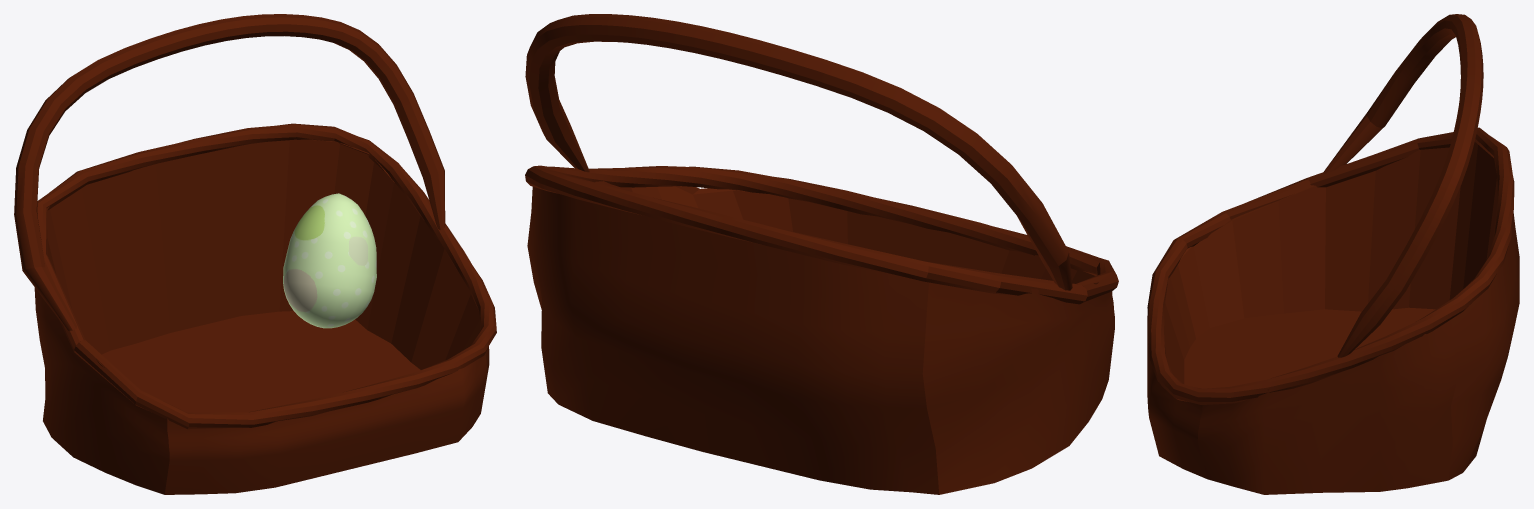
Rendered from Basket_textured.fbx.
3 views of the same model, side by side, from view 1: azimuth 30°, elevation 25°; view 2: azimuth 150°, elevation 25°; view 3: azimuth 270°, elevation 25° (orthographic). The views are drawn at different scales.
Visible parts, largest first — view 1: pCube1, pCylinder1, pCylinder2, easteregg3:pSphere1; view 2: pCube1, pCylinder1, pCylinder2; view 3: pCube1, pCylinder1, pCylinder2.
Part boxes in pixels (box(x1,y1,x2,y2)): pCube1: box(34, 139, 489, 494); pCylinder1: box(37, 123, 496, 429); pCylinder2: box(14, 14, 445, 330); easteregg3:pSphere1: box(283, 193, 376, 328); pCube1: box(527, 181, 1114, 494); pCylinder1: box(525, 165, 1118, 304); pCylinder2: box(525, 14, 1072, 290); pCube1: box(1147, 142, 1519, 494); pCylinder1: box(1147, 127, 1514, 404); pCylinder2: box(1323, 14, 1483, 357).
Bounding box in the file's own units: 6.41 × 4.85 × 4.82.
Materials: 2 (2 with a texture image).
